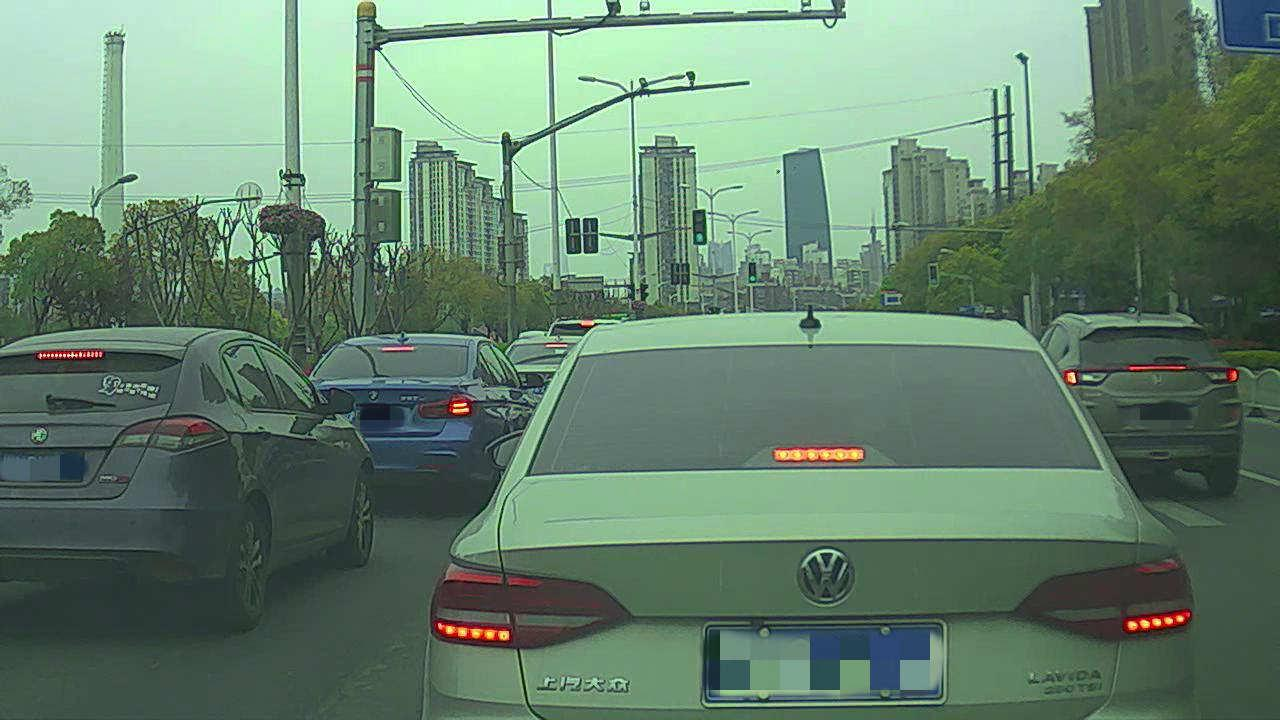traffic_light: (694, 209, 707, 247), (748, 261, 761, 285), (930, 263, 941, 285)
